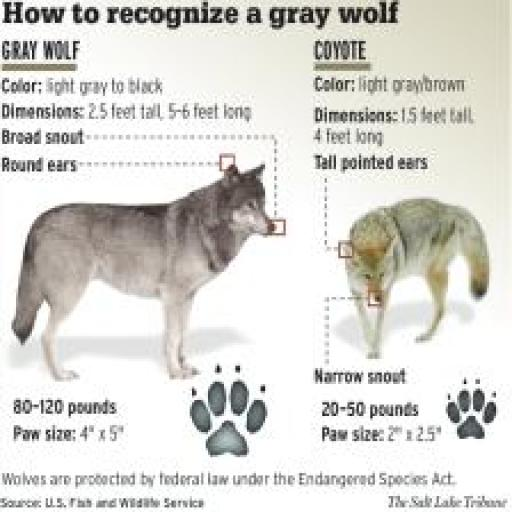wolf: (0, 155, 281, 391), (334, 192, 496, 360)
